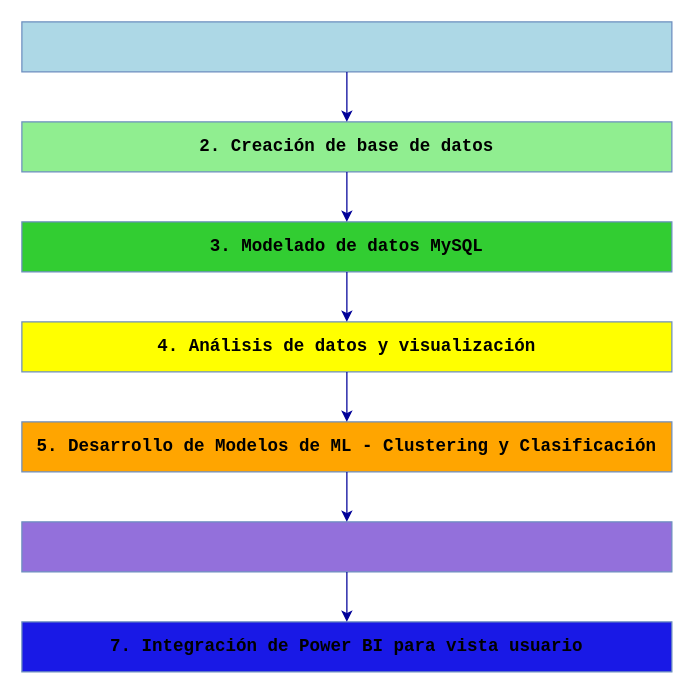
Some shapes in this 694 by 694 pixel diagram are drawn without their labels. Here are the shapes that lost their labels. From the top down, the centre of each, then its label:
(346,46): 1. Extracción y tratamiento de datos
(346,546): 6. Creación de aplicación interactiva
